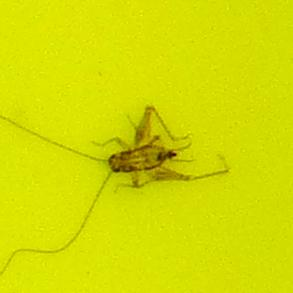Orthoptera: (100, 100, 193, 193)
